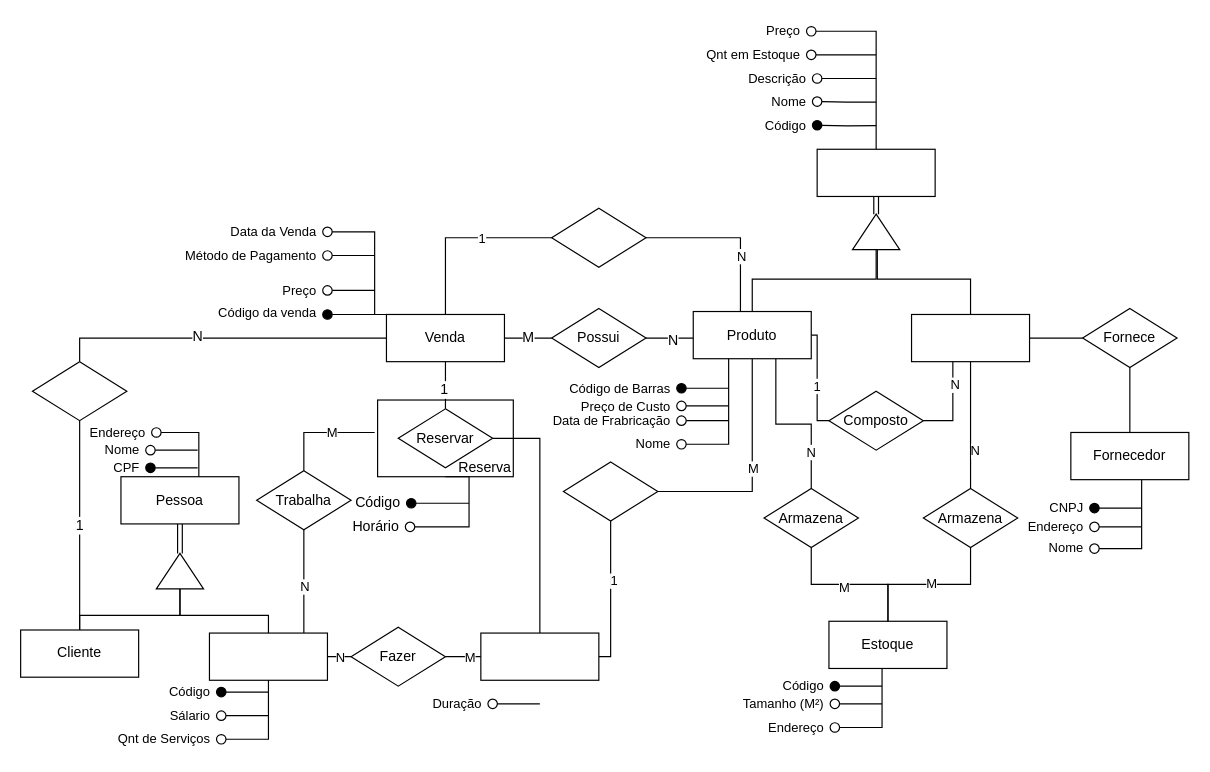
The diagram is 1210 pixels wide and 772 high, and some of its shapes have lost their labels. Here are the shapes that lost their labels. From the top down, the centre of each, then its label:
At point (875, 172): "Item".
At point (598, 237): "Planejar".
At point (970, 337): "Materia Prima".
At point (79, 390): "Requisita".
At point (610, 491): "Produz".
At point (267, 656): "Colaborador".
At point (539, 656): "Serviço".
